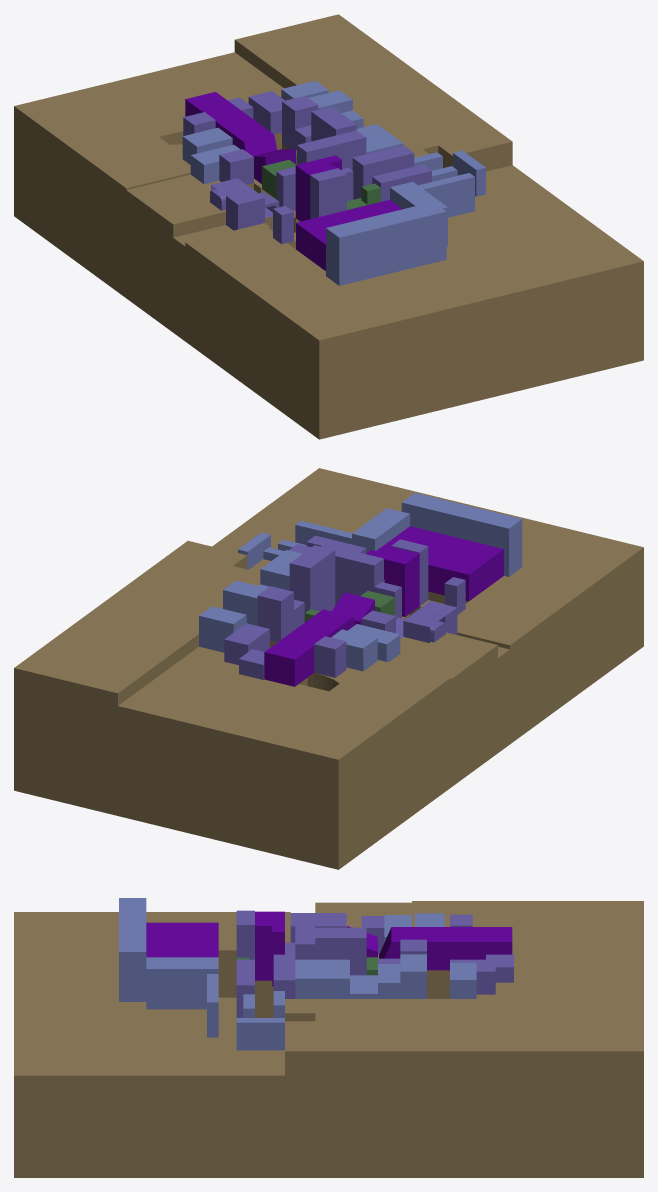
File: PlannedExteriorToLevelOverlay..fbx
3 views of the same model, one above another, from view 1: azimuth 30°, elevation 25°; view 2: azimuth 150°, elevation 25°; view 3: azimuth 270°, elevation 25° (orthographic). The views are drawn at different scales.
Visible parts, largest first — view 1: Surrounding_Terrain_Blockout, pCube36, pCube4, pCube26, pCube18, pCube11, pCube19, pCube34, pCube15, pCube16, pCube7, pCube10 (+14 smaller); view 2: Surrounding_Terrain_Blockout, pCube36, pCube26, pCube4, pCube10, pCube11, pCube16, pCube7, pCube35, pCube28, pCube6, pCube29 (+11 smaller); view 3: Surrounding_Terrain_Blockout, pCube4, pCube35, pCube36, pCube26, pCube33, pCube10, pCube16, pCube24, pCube27, pCube28, pCube11 (+12 smaller).
Boxes of the visible parts, x1=… form: Surrounding_Terrain_Blockout: x1=14, y1=14, x2=643, y2=439; pCube36: x1=326, y1=202, x2=446, y2=285; pCube4: x1=185, y1=92, x2=295, y2=183; pCube26: x1=296, y1=200, x2=402, y2=270; pCube18: x1=352, y1=145, x2=414, y2=199; pCube11: x1=297, y1=130, x2=366, y2=170; pCube19: x1=310, y1=168, x2=346, y2=218; pCube34: x1=418, y1=173, x2=474, y2=217; pCube15: x1=226, y1=189, x2=264, y2=230; pCube16: x1=295, y1=155, x2=341, y2=221; pCube7: x1=282, y1=96, x2=318, y2=149; pCube10: x1=311, y1=106, x2=356, y2=141; Surrounding_Terrain_Blockout: x1=14, y1=468, x2=643, y2=869; pCube36: x1=401, y1=493, x2=522, y2=576; pCube26: x1=376, y1=526, x2=503, y2=601; pCube4: x1=264, y1=592, x2=374, y2=686; pCube10: x1=289, y1=545, x2=335, y2=612; pCube11: x1=321, y1=544, x2=383, y2=605; pCube16: x1=366, y1=546, x2=419, y2=616; pCube7: x1=257, y1=586, x2=293, y2=642; pCube35: x1=352, y1=508, x2=409, y2=552; pCube28: x1=199, y1=606, x2=246, y2=652; pCube6: x1=224, y1=623, x2=269, y2=665; pCube29: x1=331, y1=629, x2=377, y2=671; Surrounding_Terrain_Blockout: x1=14, y1=901, x2=643, y2=1177; pCube4: x1=347, y1=926, x2=512, y2=970; pCube35: x1=146, y1=957, x2=218, y2=1009; pCube36: x1=119, y1=898, x2=146, y2=1001; pCube26: x1=146, y1=922, x2=218, y2=957; pCube33: x1=295, y1=959, x2=349, y2=998; pCube10: x1=315, y1=927, x2=366, y2=975; pCube16: x1=255, y1=911, x2=284, y2=986; pCube24: x1=236, y1=1018, x2=284, y2=1050; pCube27: x1=400, y1=954, x2=426, y2=998; pCube28: x1=450, y1=962, x2=476, y2=998; pCube11: x1=295, y1=914, x2=315, y2=959.
Size of the model in its own units: 121 by 58.23 by 197.
